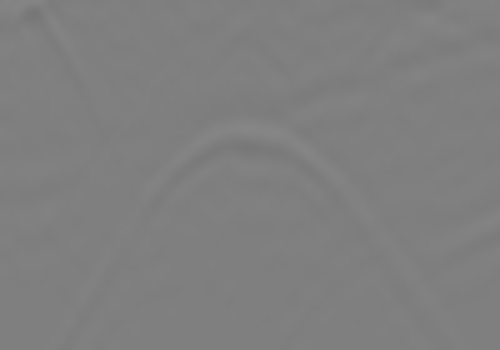hyperbola: (75, 121, 449, 338)
